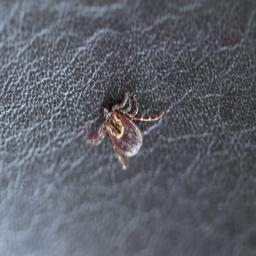Dermacentor variabilis: (88, 92, 164, 170)
